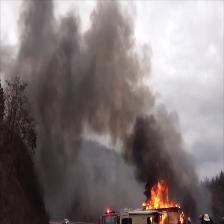fire: (144, 183, 171, 212)
smoke: (37, 41, 142, 141)
